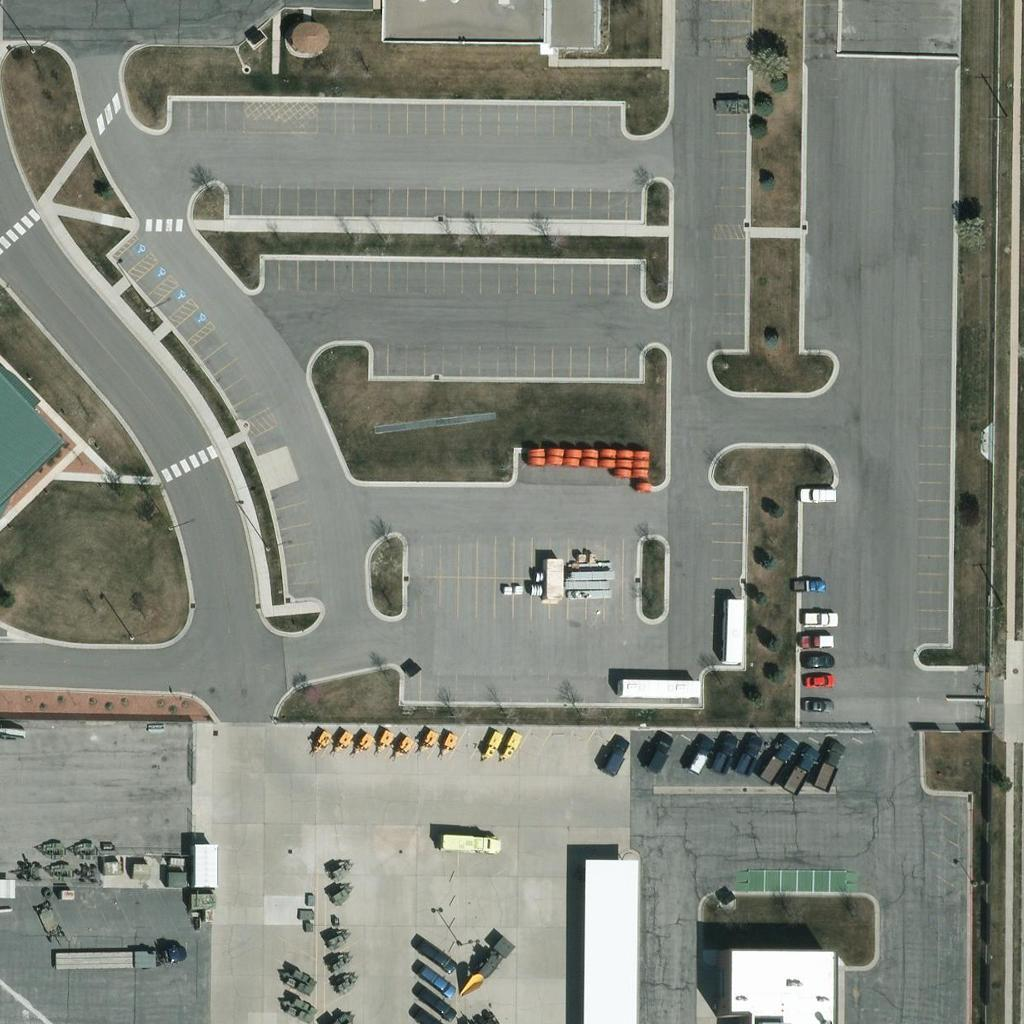car: (716, 87, 750, 121), (799, 476, 833, 510), (795, 567, 829, 601), (804, 601, 838, 635), (797, 624, 831, 658), (802, 642, 836, 676), (803, 662, 837, 696), (801, 687, 835, 721), (709, 733, 743, 767), (733, 733, 767, 767), (426, 941, 460, 975), (422, 966, 456, 1000), (425, 989, 459, 1023)
